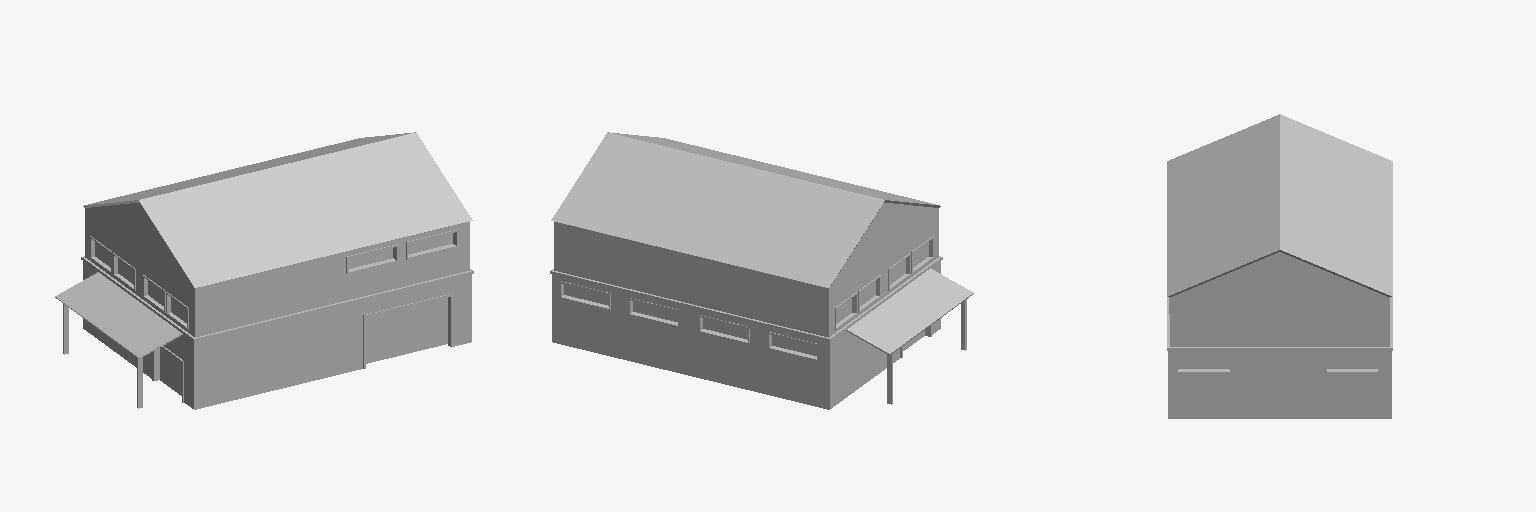
File: Building_6.obj
The picture shows the model from 3 angles: view 1: azimuth 30°, elevation 25°; view 2: azimuth 150°, elevation 25°; view 3: azimuth 270°, elevation 25°; orthographic projection.
Parts seen in each view (by area): view 1: Building_6; view 2: Building_6; view 3: Building_6.
Boxes of the visible parts, box(x1,y1,x2,y2) form: Building_6: box(55, 132, 473, 409); Building_6: box(550, 132, 973, 409); Building_6: box(1167, 114, 1392, 418).
Bounding box in the file's own units: 22.91 × 11.47 × 13.86.